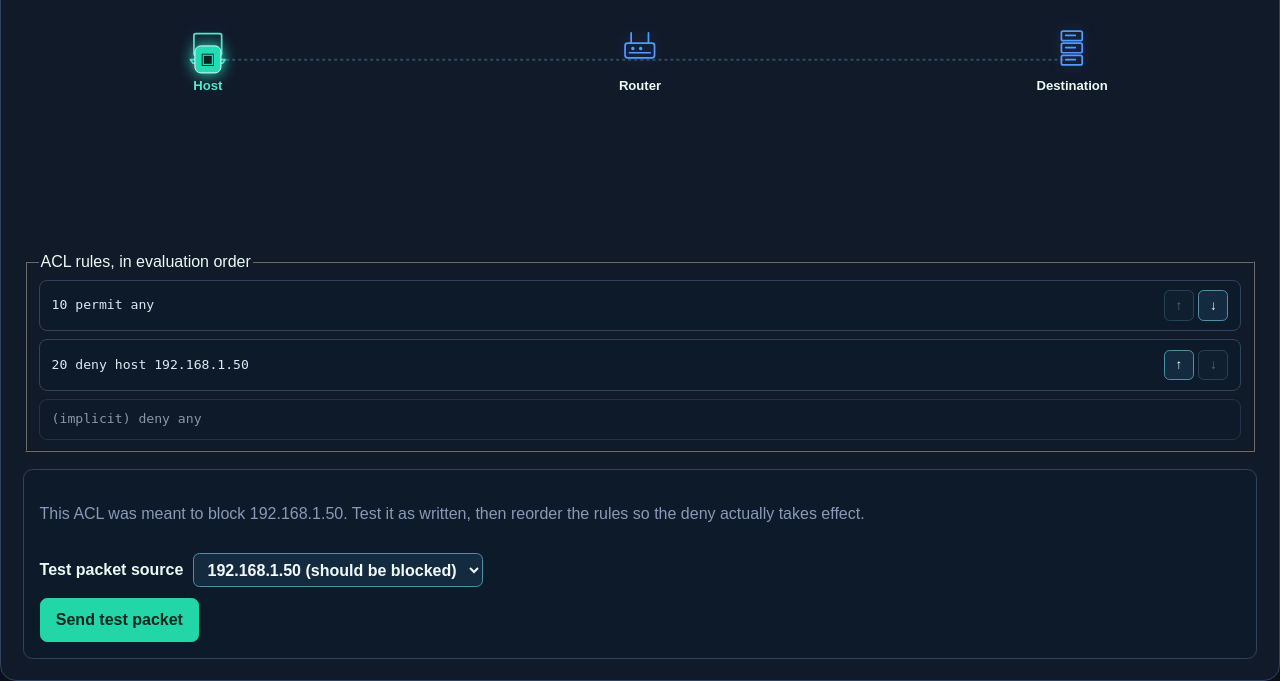
Scenario: AclSimulator › lets the learner reorder rules and see the deny actually take effect
(page scrolled)
Click the button "Send test packet".
click(119, 620)  # box [40,598,199,642]
Wait 1000 ms
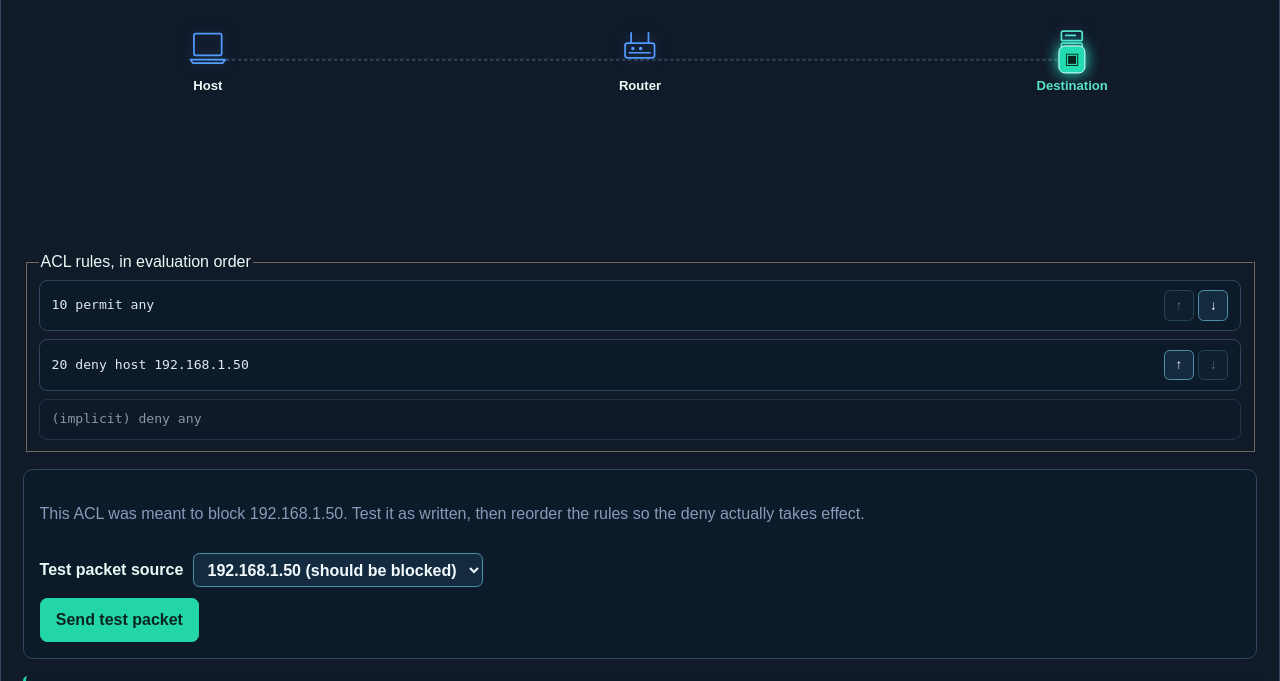
Click the button named "Move \"20 deny host 192.168.1.50\" up".
click(1179, 365)  # box [1164,350,1194,380]
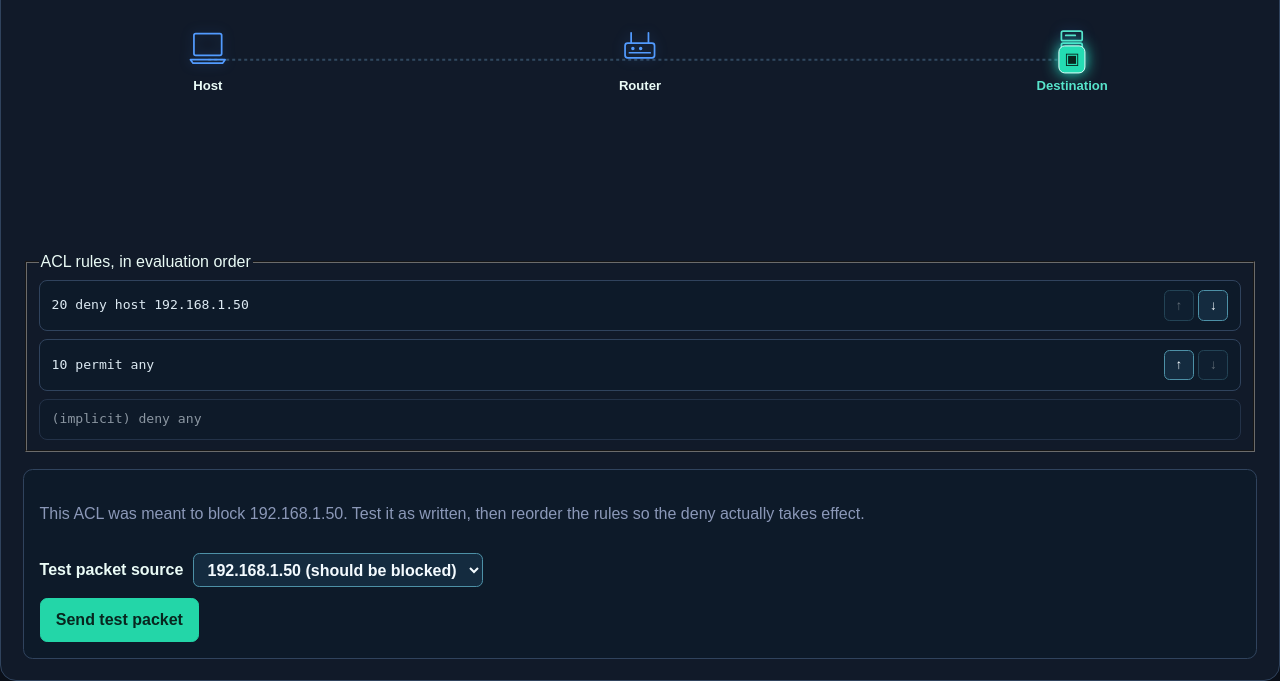
Click the button "Send test packet".
click(119, 620)  # box [40,598,199,642]
Wait 1000 ms
(page scrolled)
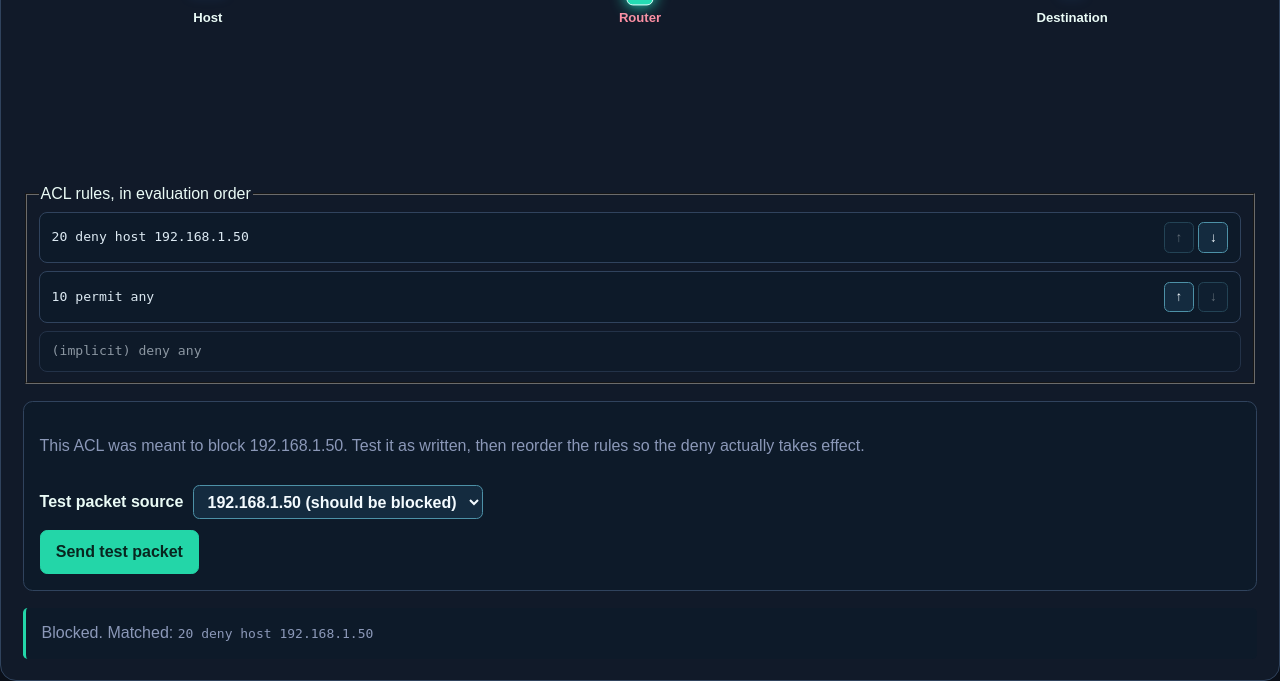
Check: the message shows "Blocked.", box [42,624,107,641]
Check: the message shows "20 deny host 192.168.1.50", box [178,626,373,641]
